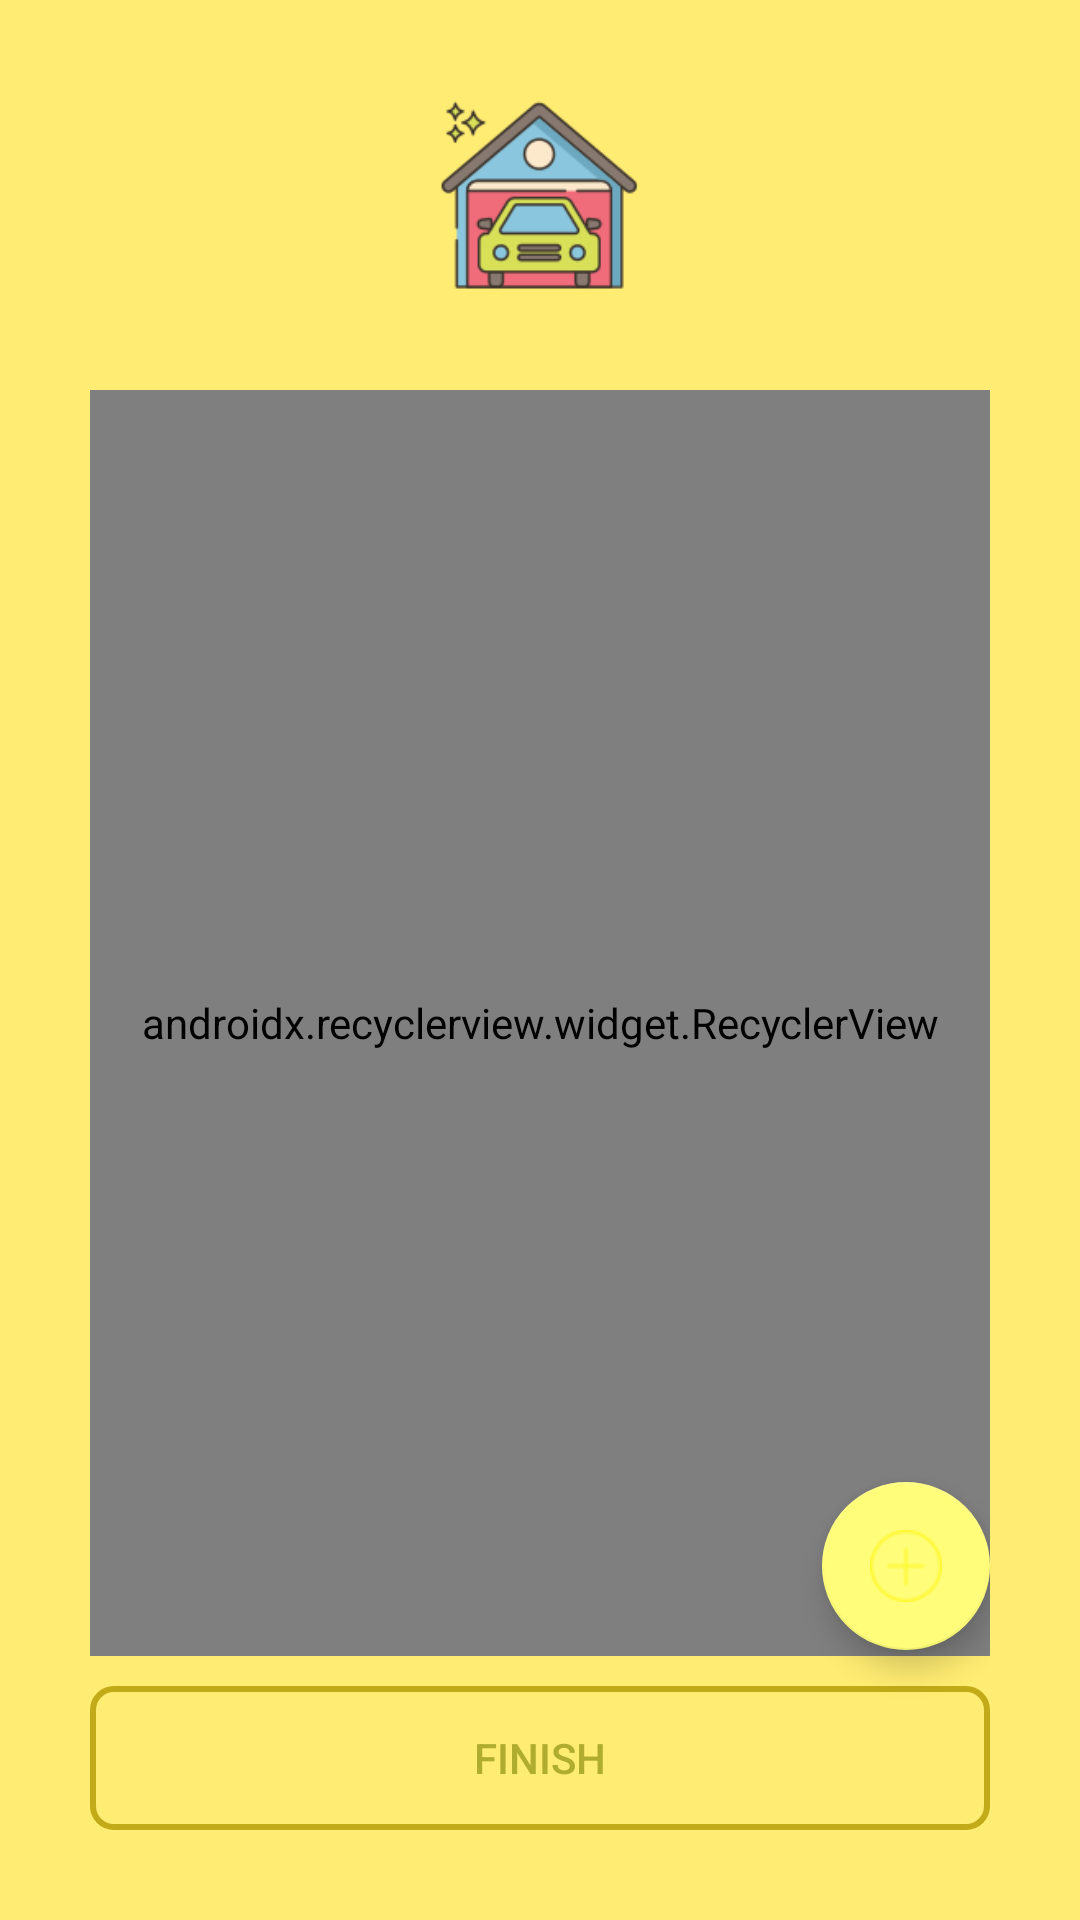

Screen size 1080px x 1920px. Icon name, then its center in pixels as (x=x, y=y):
garage: (x=539, y=195)
plus: (x=906, y=1566)
